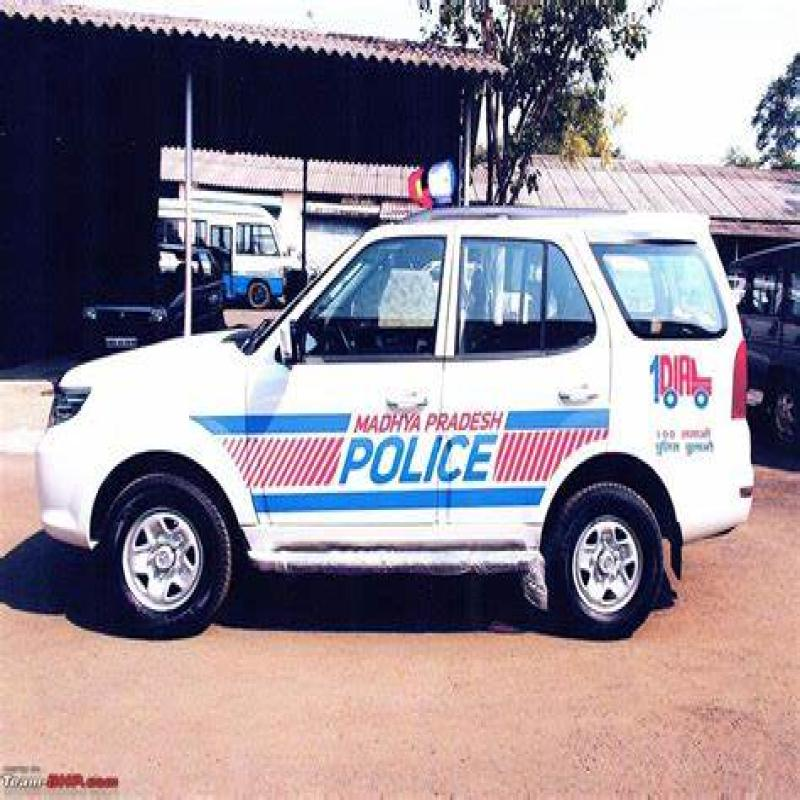AmbulanceSiren: (411, 163, 477, 242)
car: (24, 188, 732, 605)
